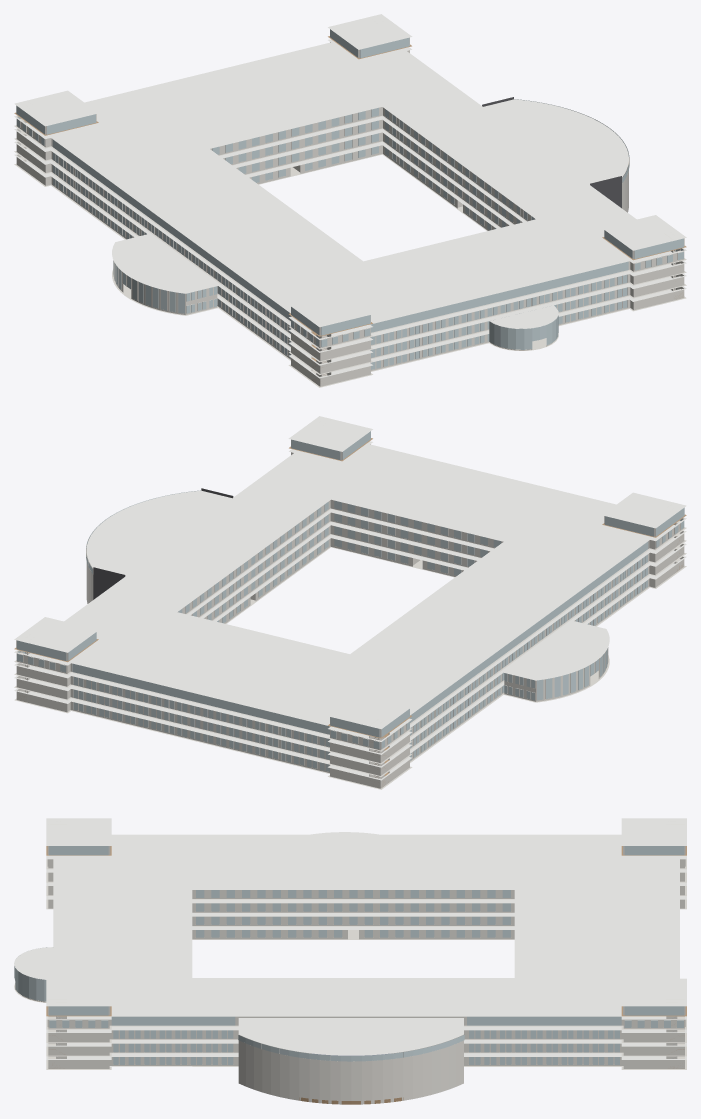
The model's file is Academic_Block_Interior.fbx.
3 renders of one model, top to bottom at view 1: azimuth 30°, elevation 25°; view 2: azimuth 150°, elevation 25°; view 3: azimuth 270°, elevation 25°, orthographic. The views are drawn at different scales.
Visible parts, largest first — view 1: Academic_Block_Interior; view 2: Academic_Block_Interior; view 3: Academic_Block_Interior.
Part boxes in pixels (x1,y1,x2,y2): Academic_Block_Interior: (14, 14, 686, 387); Academic_Block_Interior: (14, 416, 686, 789); Academic_Block_Interior: (14, 818, 686, 1104).
Size of the model in its own units: 136 by 16.1 by 155.
